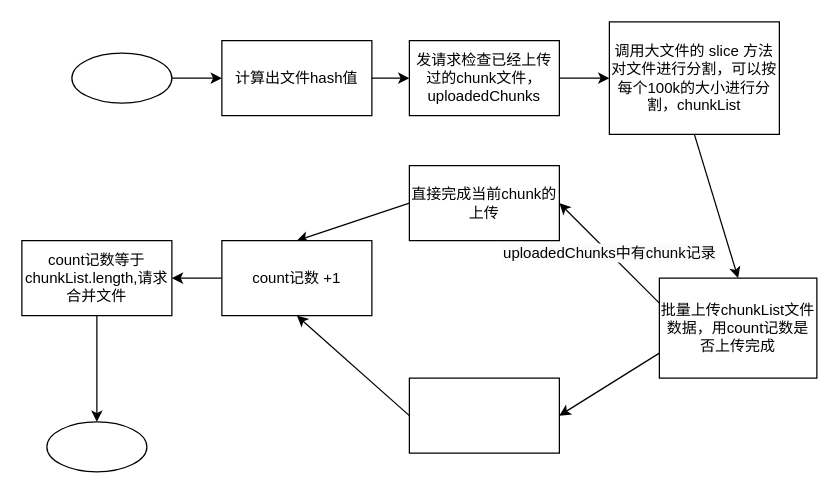
The diagram is 839 pixels wide and 494 high, and some of its shapes have lost their labels. The shapes that lost their labels are listed below. From the top down, each one's box as (x1, y1, x2, y2) in pixels, then its label:
(71, 52, 172, 103): 开始
(408, 377, 559, 453): 上传chunk
(46, 421, 147, 472): 结束
